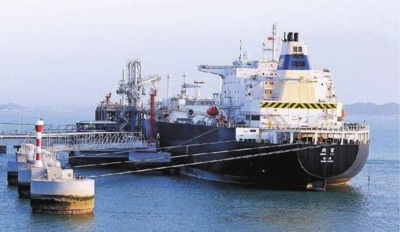Cargoship: (110, 25, 377, 183)
